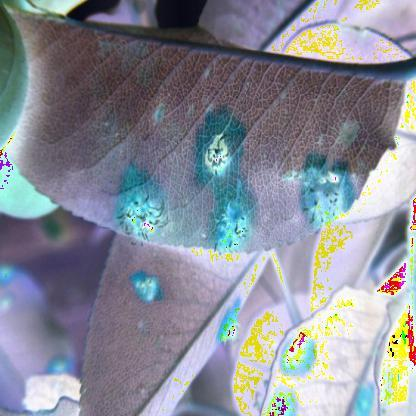Apple rust leaf: (25, 5, 416, 266)
